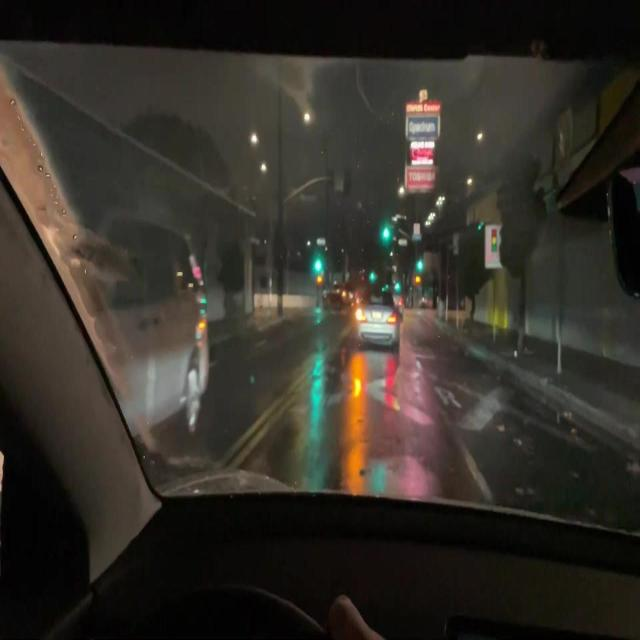Car: (350, 287, 397, 353)
